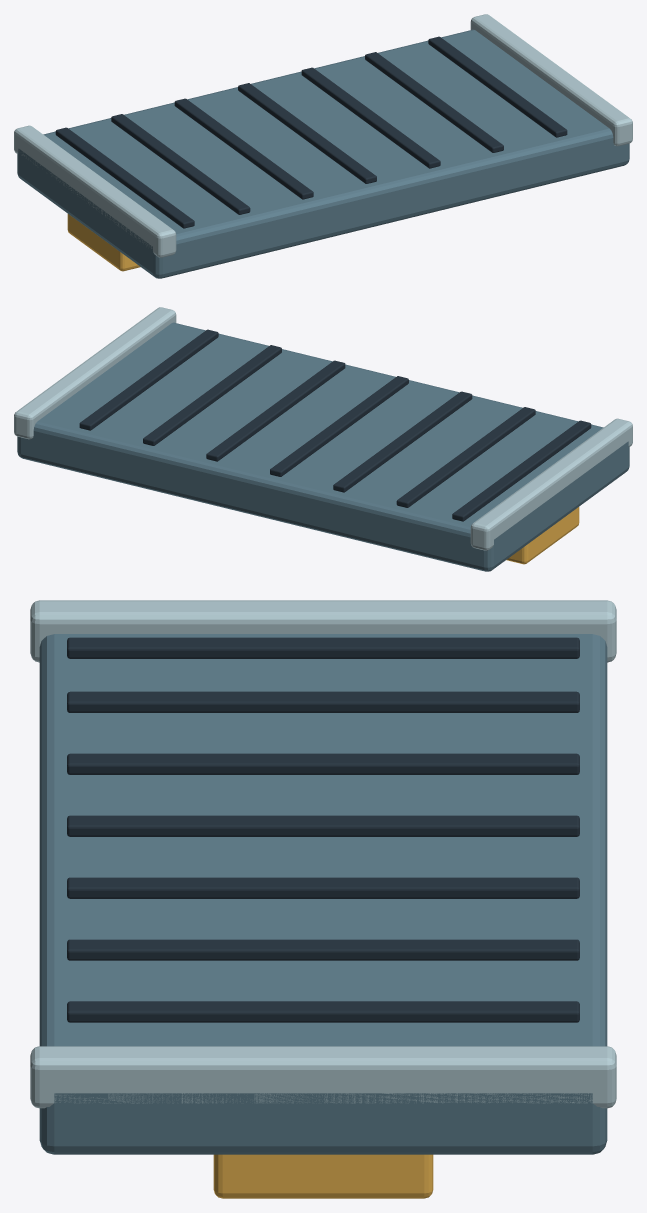
The model's file is SM_LongDeck.fbx.
3 renders of one model, top to bottom at view 1: azimuth 30°, elevation 25°; view 2: azimuth 150°, elevation 25°; view 3: azimuth 270°, elevation 25°, orthographic. The views are drawn at different scales.
Visible parts, largest first — view 1: SM_LongDeck; view 2: SM_LongDeck; view 3: SM_LongDeck.
Part boxes in pixels (bbox=[...]): SM_LongDeck: bbox=[14, 14, 632, 278]; SM_LongDeck: bbox=[14, 307, 632, 571]; SM_LongDeck: bbox=[30, 600, 616, 1198].
Size of the model in its own units: 300 by 160 by 44.5.
